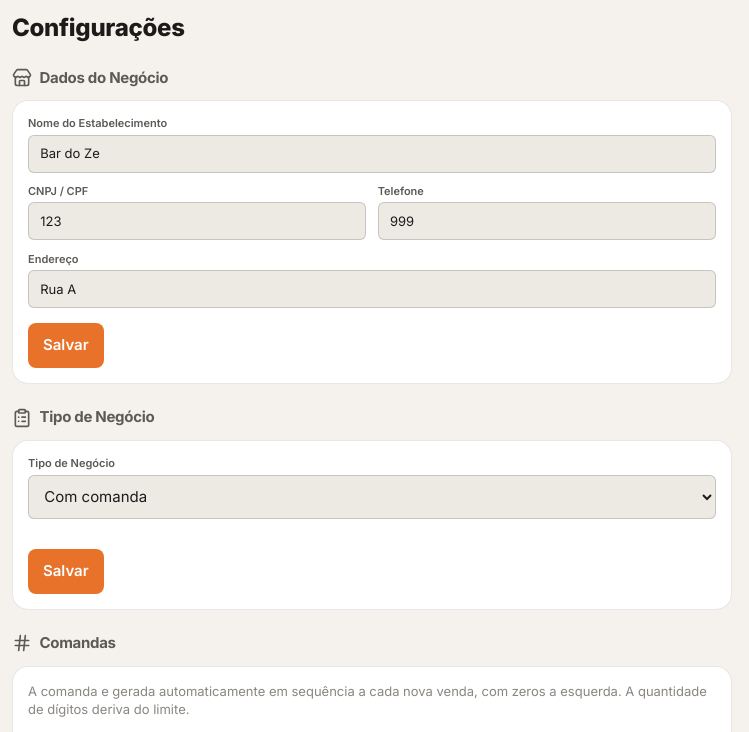
Test case: SettingsPage › toasts when saving fails
Check: the field labelled "Nome do Estabelecimento" is shown, box [28,135,716,173]
Click the button "Salvar" below "Endereço".
click(66, 346)  # box [28,323,104,368]
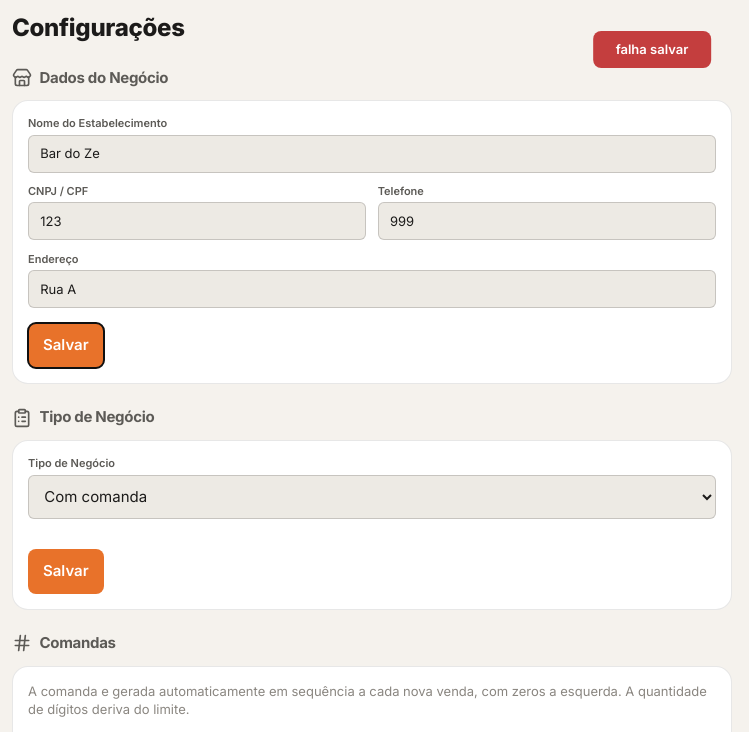
Check: the message reads "falha salvar", box [616,41,688,57]
